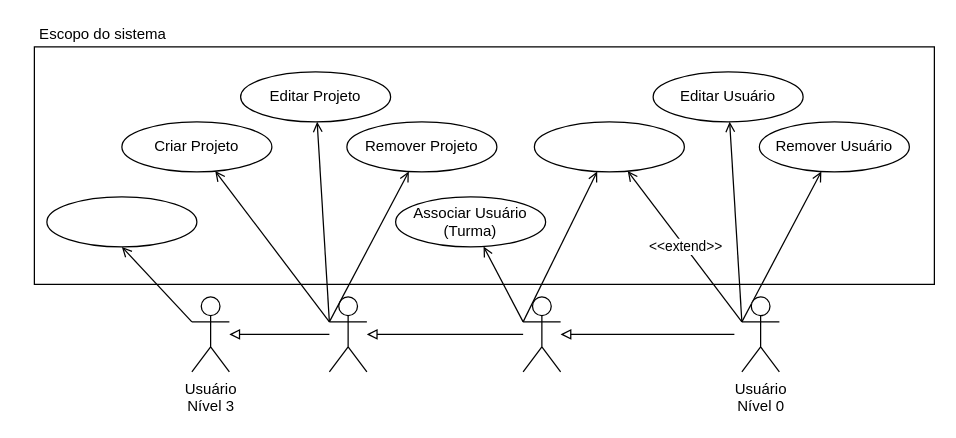
This 956x438 diagram has some shape labels left out. The shapes that lost their labels are listed below. From the top down, each one's centre as x and y in pixels, then its label:
At [608,146]: "Criar Usuário".
At [121,221]: "Ler Projeto (público)".
At [347,334]: "Usuário Nível 2".
At [541,334]: "Usuário Nível 1".
